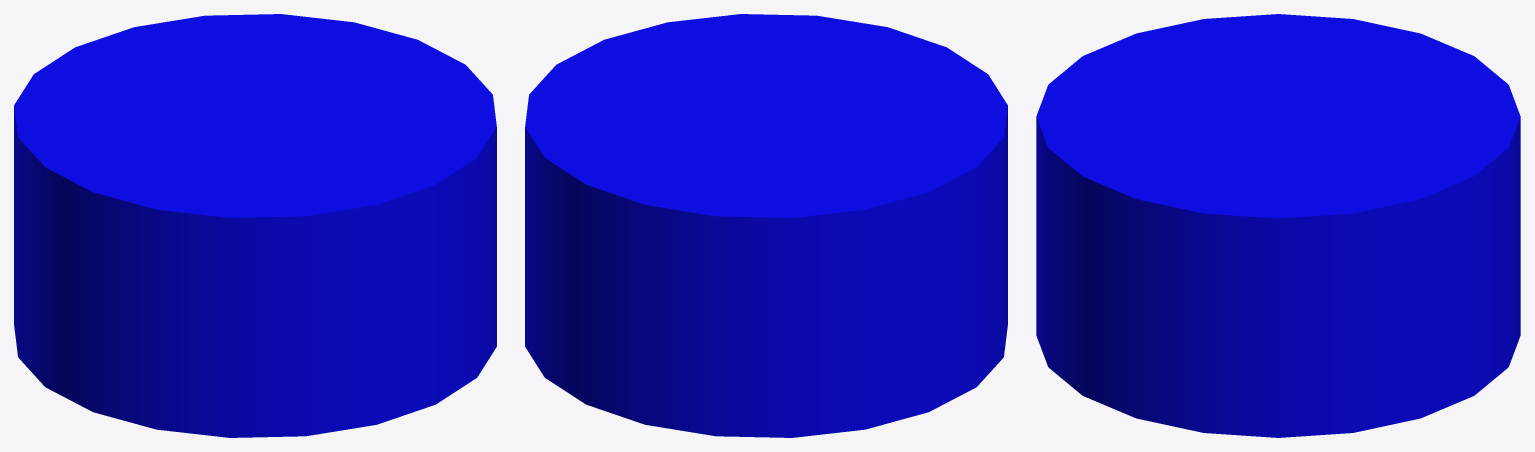
Rendered from Cylinder_Indigo.obj.
3 renders of one model, left to right at view 1: azimuth 30°, elevation 25°; view 2: azimuth 150°, elevation 25°; view 3: azimuth 270°, elevation 25°, orthographic.
Parts seen in each view (by area): view 1: pCylinder1; view 2: pCylinder1; view 3: pCylinder1.
Boxes of the visible parts, x1,y1,x2,y2 form: pCylinder1: [14, 14, 496, 437]; pCylinder1: [525, 14, 1007, 437]; pCylinder1: [1036, 14, 1520, 437].
Bounding box in the file's own units: 2 × 1 × 2.
